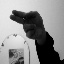h: (8, 6, 48, 41)
